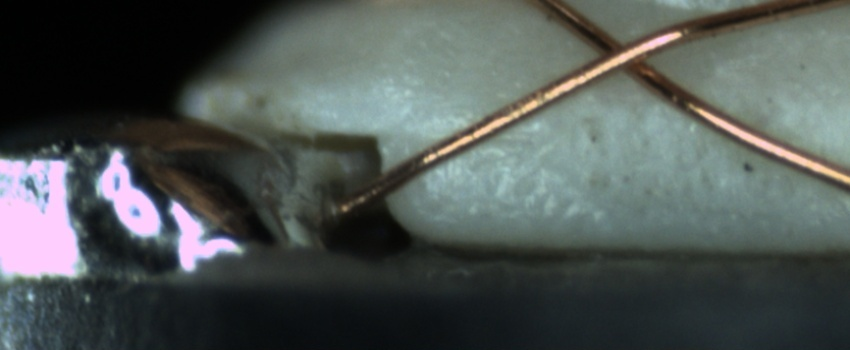CL: (572, 20, 677, 89)
DL: (410, 112, 536, 169)
